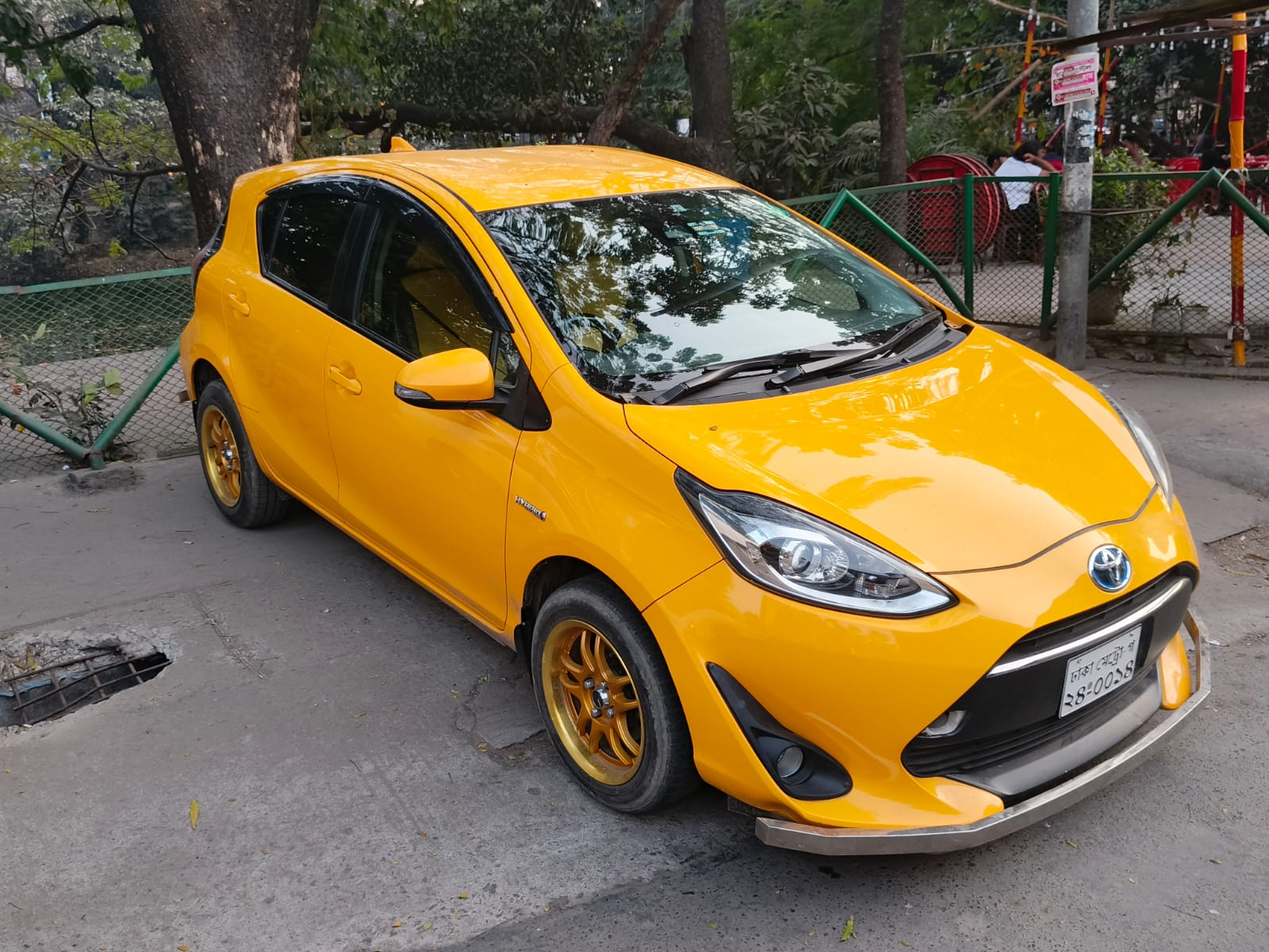private car: (167, 58, 1253, 881)
